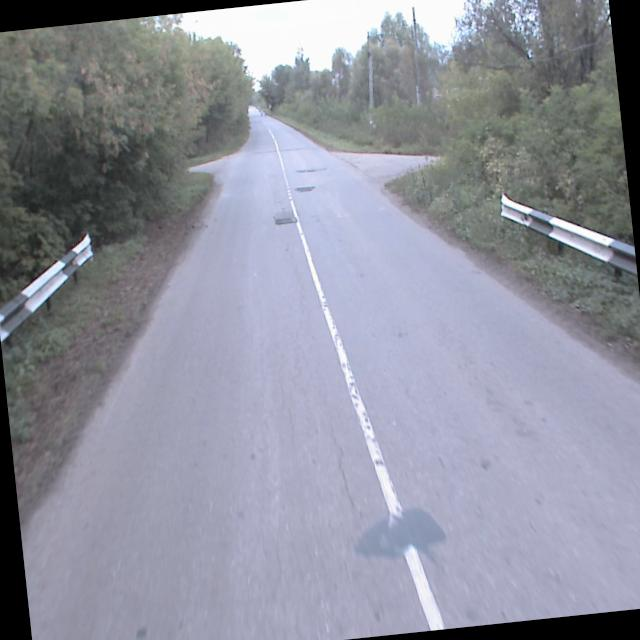road: (21, 104, 640, 640)
